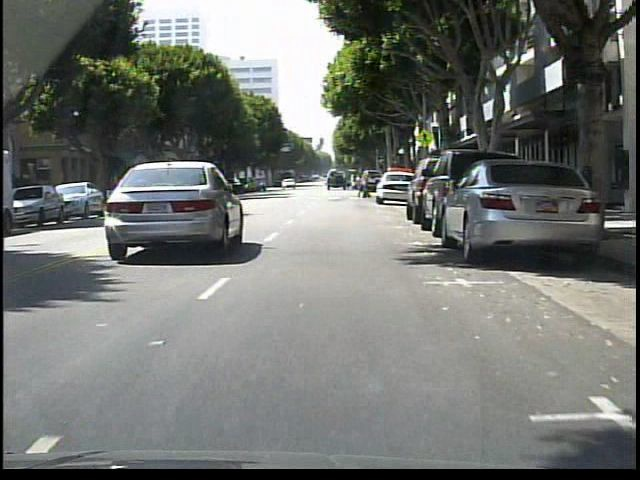person: (356, 170, 371, 199), (353, 170, 354, 189)
